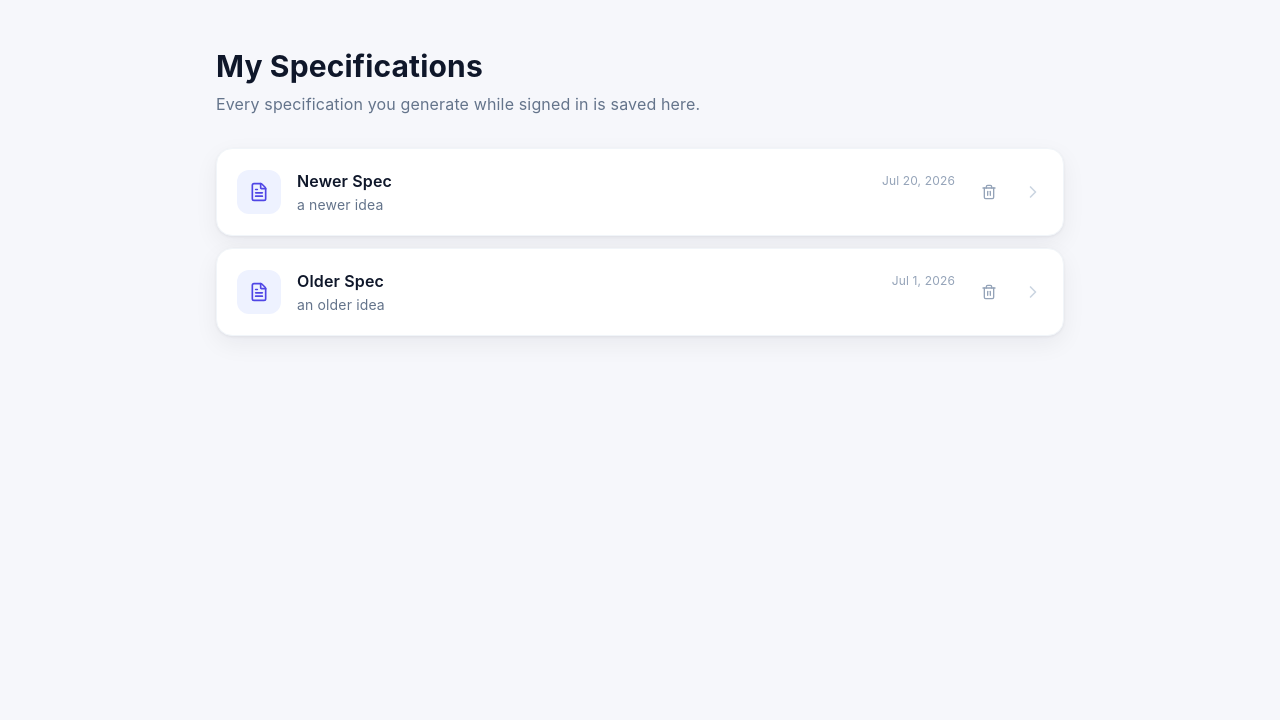
Scenario: deleting a saved specification › cancelling the confirmation deletes nothing
This screenshot has width=1280, height=720.
Expected: the heading "Older Spec" is shown, [297,269,384,293]
Click the button named "delete older spec" at (989, 292), box [971,274,1007,310]
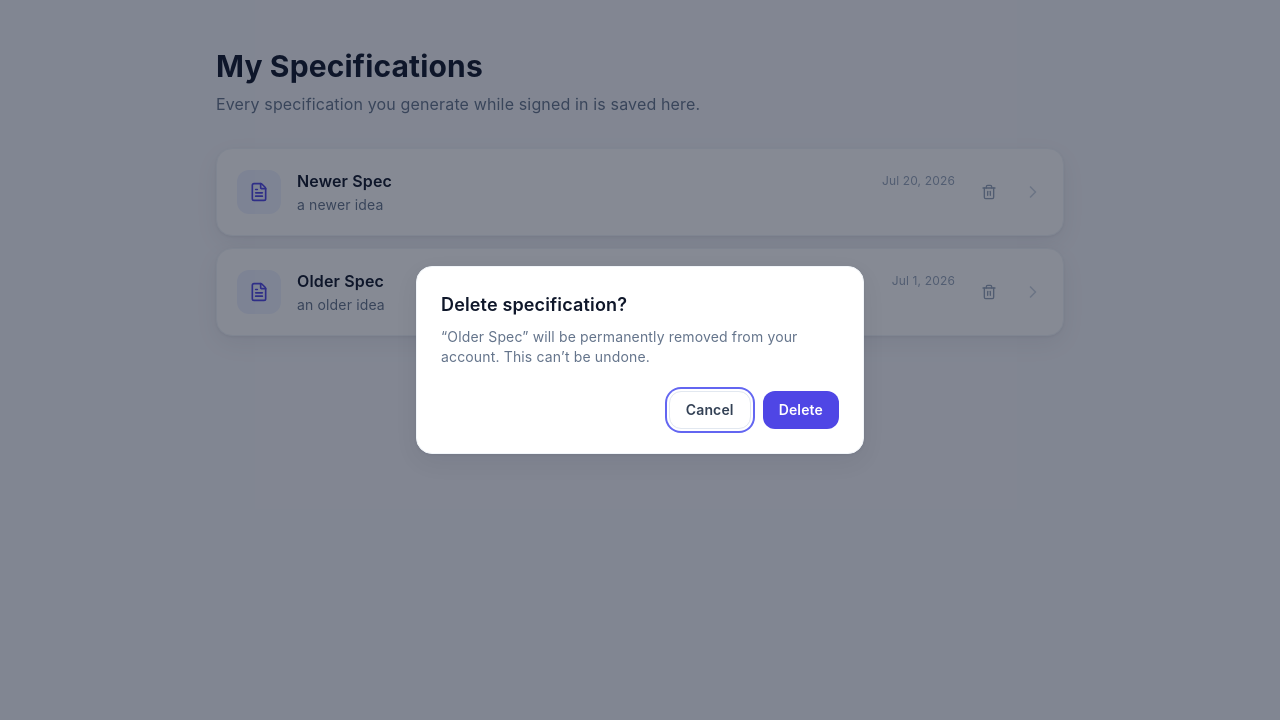
Click the button "Cancel" at (710, 410), box [669,391,751,429]
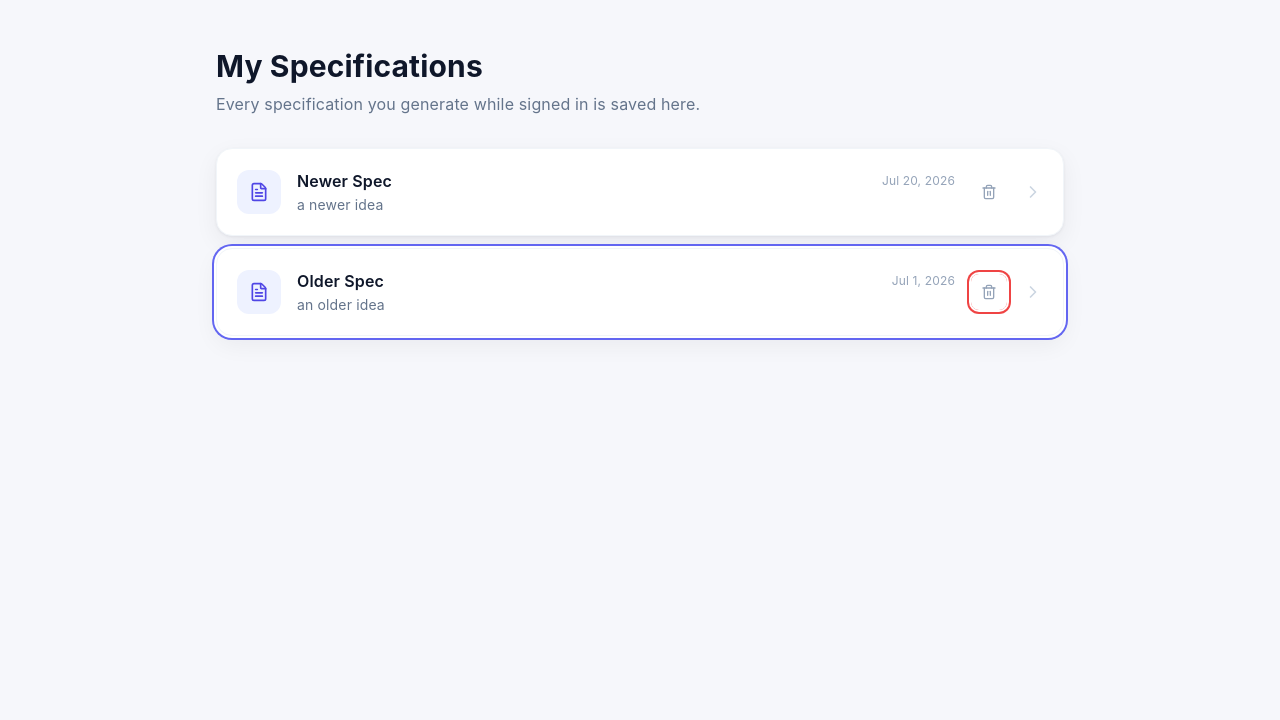
Expected: the heading "Older Spec" is shown, [297,269,384,293]
Result: the dialog is gone
